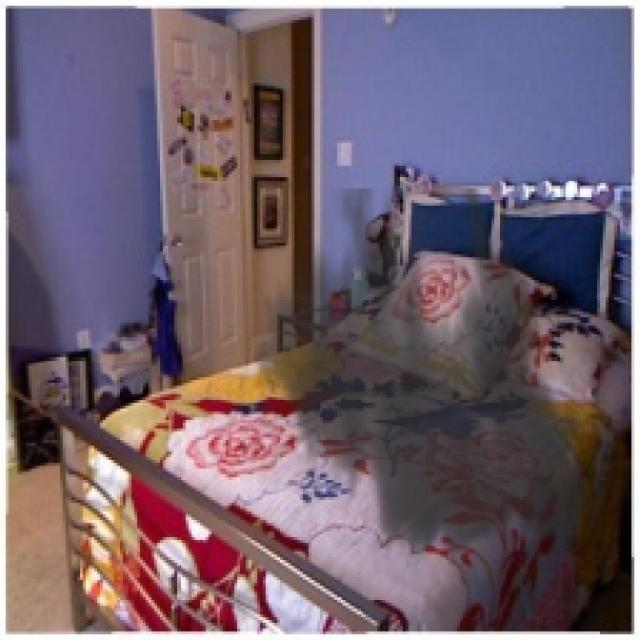Smoke: (242, 188, 608, 578)
